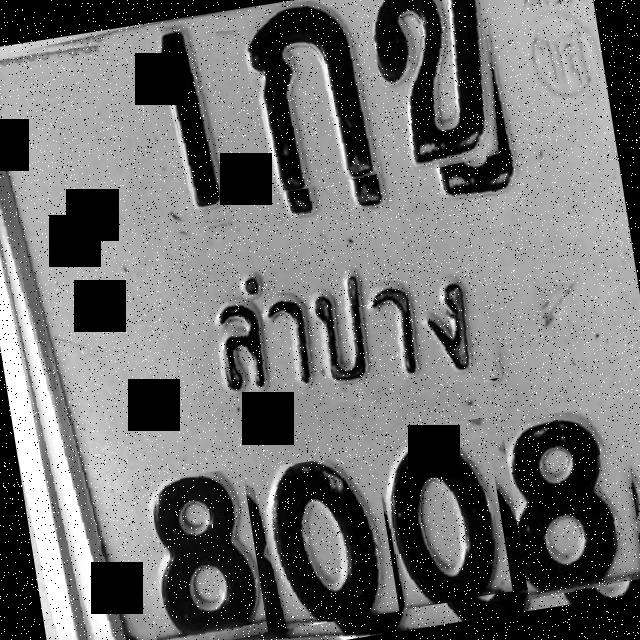letters: (95, 15, 246, 241), (235, 0, 382, 196), (501, 403, 640, 600), (250, 449, 400, 631), (372, 418, 513, 610), (366, 0, 515, 178), (132, 467, 269, 640)
license-plate: (0, 0, 640, 640)
province: (197, 247, 495, 407)
